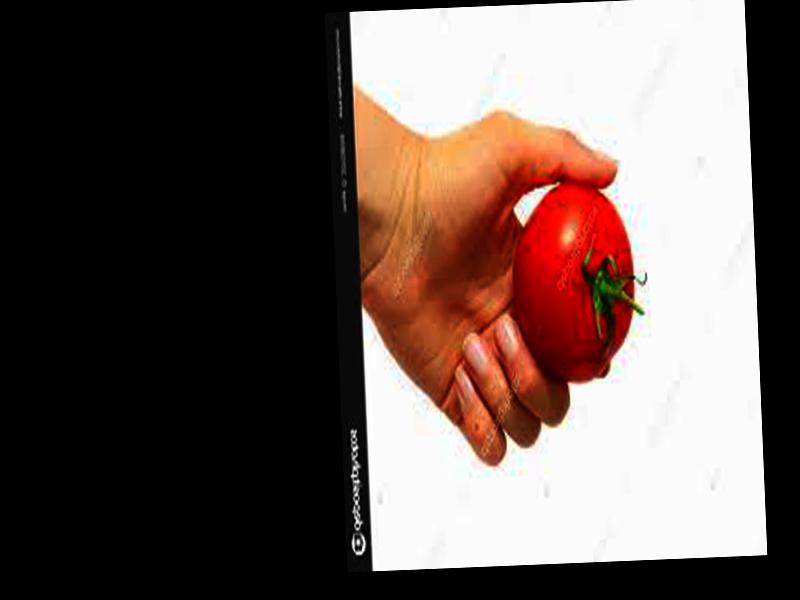Tomato: (508, 181, 639, 381)
